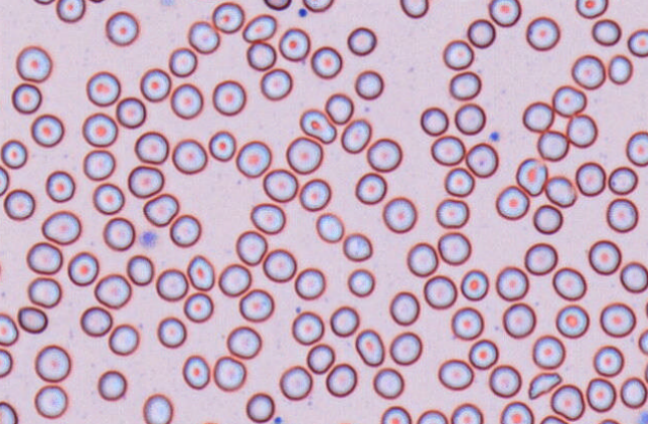PLT: (139, 228, 157, 248), (488, 130, 500, 142), (296, 7, 308, 19)
RBC: (285, 136, 323, 174), (34, 344, 71, 382), (41, 210, 81, 245), (15, 45, 52, 82), (235, 140, 271, 178), (171, 138, 207, 174), (299, 108, 336, 143), (94, 273, 131, 308), (550, 383, 585, 420), (382, 196, 417, 233), (599, 302, 636, 337), (366, 137, 402, 172), (85, 70, 120, 106), (127, 164, 164, 198), (212, 79, 246, 116), (515, 157, 547, 196), (525, 16, 560, 51), (82, 112, 117, 147), (262, 168, 298, 202), (238, 288, 274, 322), (105, 10, 139, 46), (502, 302, 536, 338), (142, 193, 179, 226), (170, 82, 203, 119), (495, 185, 529, 220), (226, 325, 261, 359), (571, 54, 605, 89), (423, 274, 457, 309), (465, 142, 498, 178), (213, 355, 246, 391), (26, 241, 62, 274), (495, 265, 528, 301), (588, 239, 621, 275), (34, 384, 68, 418), (262, 248, 296, 282), (555, 304, 589, 338), (134, 130, 168, 164), (552, 266, 586, 300), (437, 231, 471, 265), (30, 113, 64, 147), (551, 84, 586, 117), (279, 365, 312, 400), (291, 310, 324, 345), (532, 334, 565, 369), (102, 216, 135, 251), (406, 241, 438, 277), (437, 358, 473, 390), (187, 20, 220, 54), (450, 306, 483, 340), (389, 331, 422, 365), (325, 362, 357, 397), (235, 230, 267, 265), (67, 251, 99, 286), (388, 290, 420, 325), (250, 202, 285, 234), (139, 67, 171, 102), (606, 197, 638, 232), (355, 328, 384, 366), (488, 364, 521, 397), (218, 263, 251, 296), (155, 268, 188, 301), (259, 67, 292, 100), (524, 242, 557, 275), (169, 213, 201, 247), (27, 276, 61, 308), (310, 45, 342, 79), (278, 27, 310, 61), (340, 118, 371, 153), (585, 377, 616, 412), (575, 161, 606, 196), (430, 134, 465, 165), (544, 175, 577, 207), (299, 178, 331, 211), (536, 129, 569, 161), (592, 344, 624, 377), (211, 1, 244, 33), (566, 113, 597, 147), (3, 188, 35, 220), (355, 172, 387, 204), (522, 100, 554, 132), (372, 367, 404, 399), (92, 182, 124, 214), (79, 305, 112, 336), (294, 267, 325, 300), (454, 102, 485, 135), (82, 149, 115, 180), (435, 198, 469, 228), (186, 254, 214, 290), (108, 323, 139, 355), (442, 39, 474, 70), (115, 96, 146, 128), (448, 70, 481, 100), (242, 13, 276, 42), (182, 354, 210, 389), (329, 305, 359, 337), (156, 316, 186, 348), (11, 82, 41, 114), (45, 170, 75, 202), (460, 268, 489, 301), (142, 393, 173, 423), (97, 369, 127, 400), (468, 338, 498, 369), (443, 167, 474, 197), (324, 92, 353, 124), (619, 261, 648, 293), (183, 292, 213, 322), (246, 40, 276, 70), (346, 26, 376, 56), (354, 69, 383, 100), (619, 376, 647, 408), (315, 212, 344, 242), (245, 392, 274, 422), (342, 232, 372, 261), (608, 166, 638, 195), (419, 106, 448, 136), (533, 204, 562, 234), (466, 18, 495, 48), (168, 47, 197, 77), (306, 343, 334, 374), (126, 254, 154, 285), (17, 305, 48, 333), (208, 130, 236, 161), (488, 0, 521, 26), (591, 18, 621, 46), (625, 130, 648, 166), (347, 268, 375, 297), (0, 138, 27, 168), (608, 54, 633, 84), (499, 401, 533, 423), (450, 402, 483, 423), (56, 0, 85, 22), (0, 312, 18, 346), (627, 28, 648, 57), (575, 0, 608, 18), (380, 405, 411, 423), (399, 0, 428, 18), (416, 409, 448, 423), (0, 347, 13, 378), (0, 401, 18, 423), (302, 0, 334, 12), (638, 327, 648, 355), (263, 0, 291, 10), (0, 165, 9, 196), (539, 414, 569, 423), (595, 417, 623, 424), (635, 409, 648, 424), (270, 415, 285, 424), (643, 358, 648, 384), (32, 0, 55, 5), (644, 295, 648, 321), (189, 0, 222, 3), (197, 420, 221, 424), (0, 256, 3, 284), (86, 0, 107, 3)
Schistocyte: (527, 373, 562, 400)
